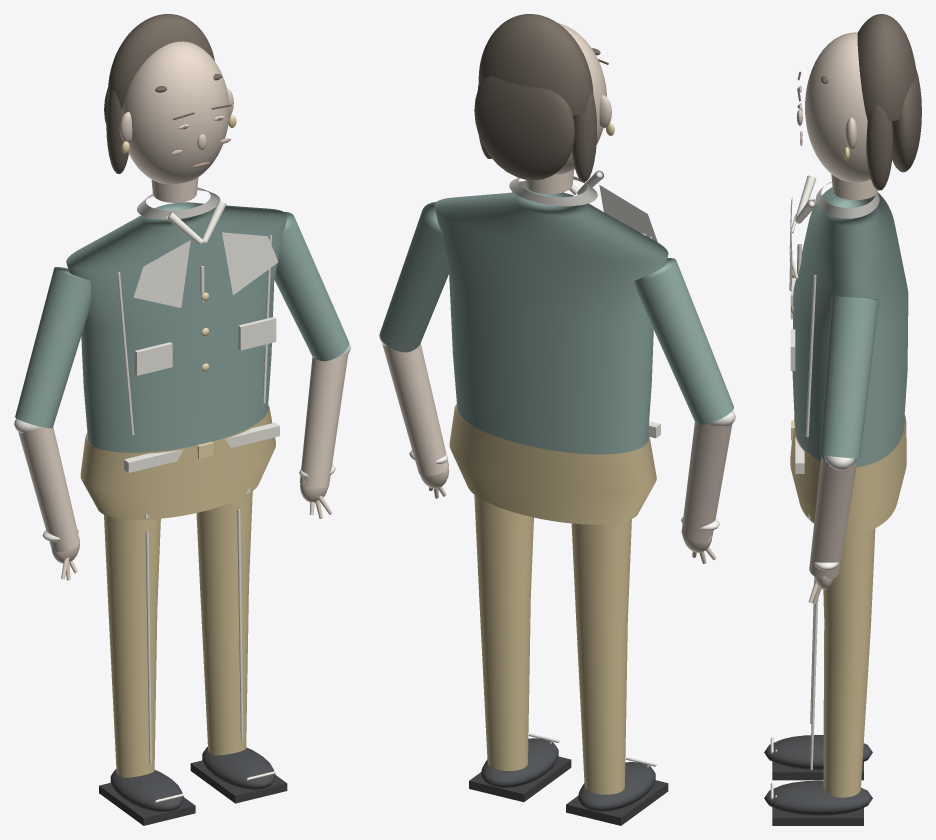
File: nonBinary-tailored.glb
3 renders of one model, left to right at view 1: azimuth 30°, elevation 25°; view 2: azimuth 150°, elevation 25°; view 3: azimuth 270°, elevation 25°, orthographic. The views are drawn at different scales.
Parts seen in each view (by area): view 1: StyleFit Parametric Digital Human; view 2: StyleFit Parametric Digital Human; view 3: StyleFit Parametric Digital Human.
Boxes of the visible parts, box(x1,y1,x2,y2) form: StyleFit Parametric Digital Human: box(14, 14, 350, 825); StyleFit Parametric Digital Human: box(379, 14, 735, 825); StyleFit Parametric Digital Human: box(764, 14, 921, 825).
Bounding box in the file's own units: 1.02 × 2.19 × 0.4058.
